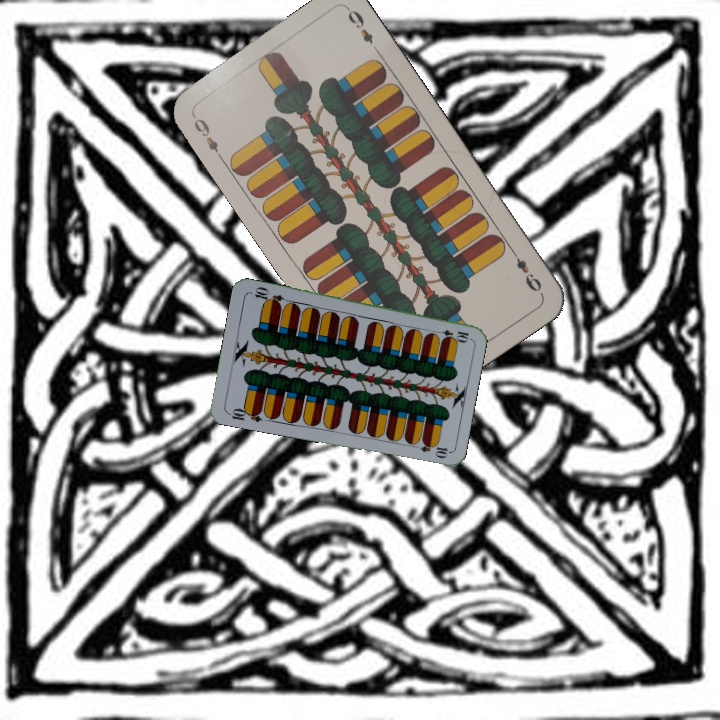E10: (224, 404, 264, 425), (431, 325, 471, 343)
E9: (188, 110, 226, 163), (506, 244, 545, 295)
